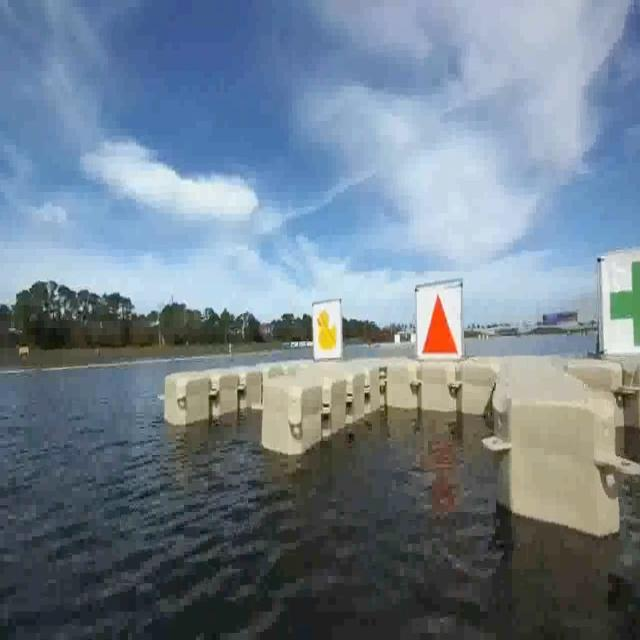blue-cross: (601, 256, 640, 352)
red-dot: (415, 281, 462, 359)
yellow-duck: (314, 306, 339, 358)
